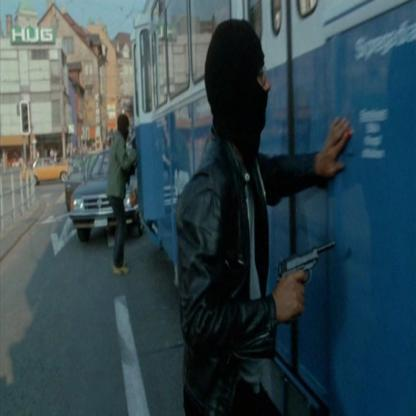gun: (279, 226, 345, 292)
